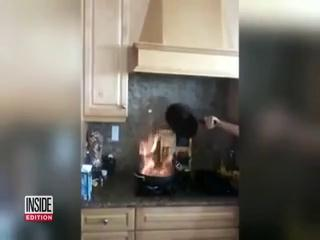Fire: (137, 94, 180, 180)
